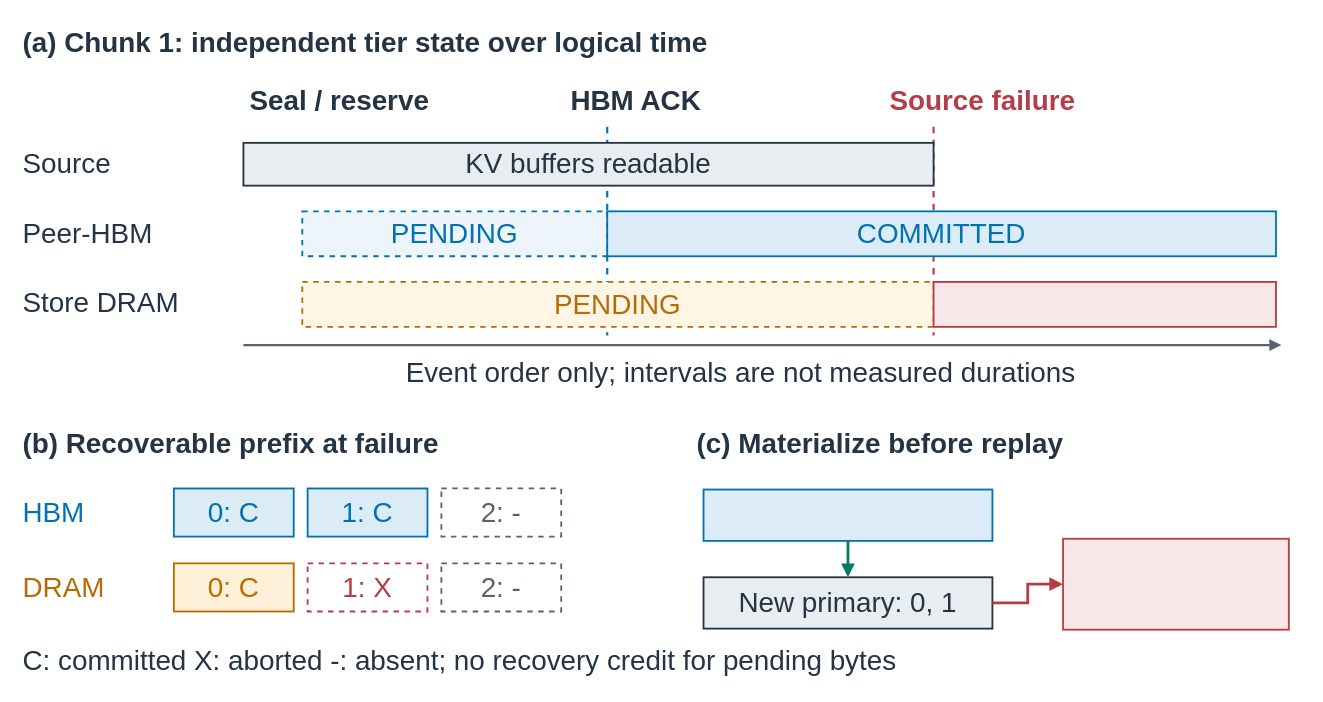
Some shapes in this 1323 by 702 pixel diagram are drawn without their labels. The shapes that lost their labels are listed below. From the top down, each one's centre as x and y in pixels, then its label:
At pixel 1104 304: "ABORTED".
At pixel 847 514: "HBM backup: 0, 1".
At pixel 1175 583: "Recompute suffix 2".
